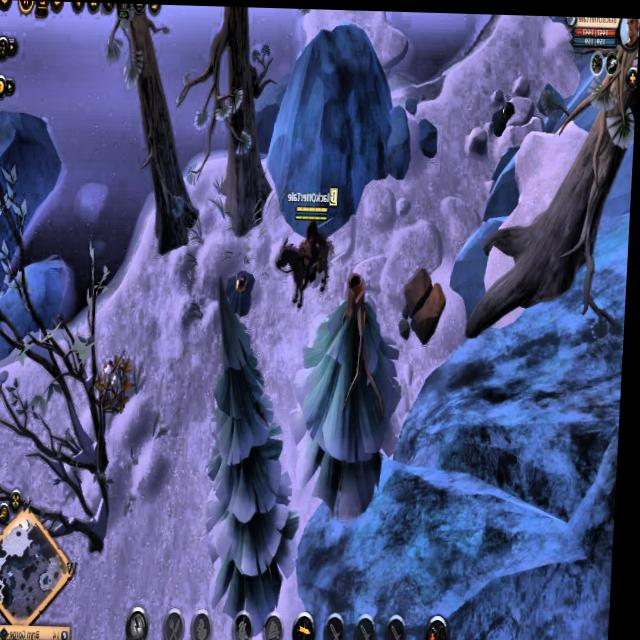copperore: (228, 265, 260, 312), (491, 90, 520, 138)
limestone: (401, 263, 453, 339)
